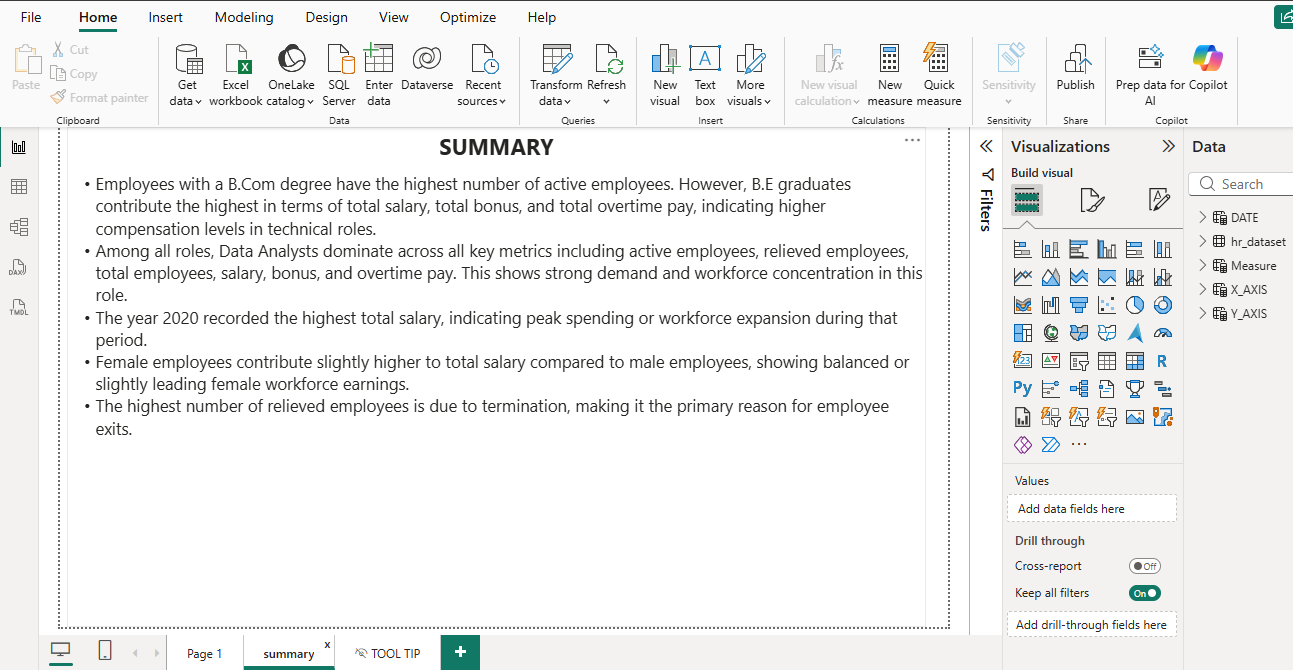

What the dashboard file says about the page in this screenshot:
{"tool":"powerbi","page":{"name":"summary","canvas":[1280,720],"ordinal":1},"visuals":[{"type":"textbox","box":[10.3,0,1237.1,720.2],"z":0}]}

Visuals, with their boxes on the page's 1280x720 design canvas (x1, y1, x2, y2). These are canvas units, not pixel positions in the 1293x670 screenshot, which may show the page scaled, cropped or inside an application window:
textbox: 10 0 1247 720
